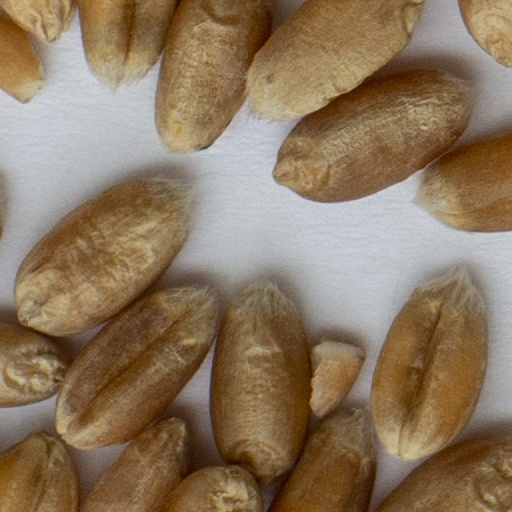Wheat-grain-damaged-poly: (306, 336, 367, 420), (0, 11, 45, 103)
Wheat-grain-poly: (276, 69, 476, 203), (248, 0, 428, 117), (151, 0, 272, 153), (78, 0, 180, 93), (0, 0, 76, 44)
